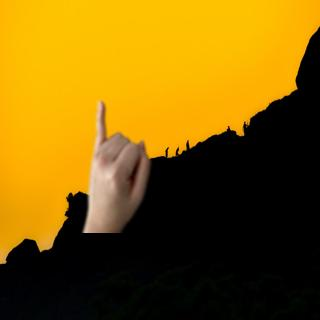Fine: (78, 96, 154, 230)
